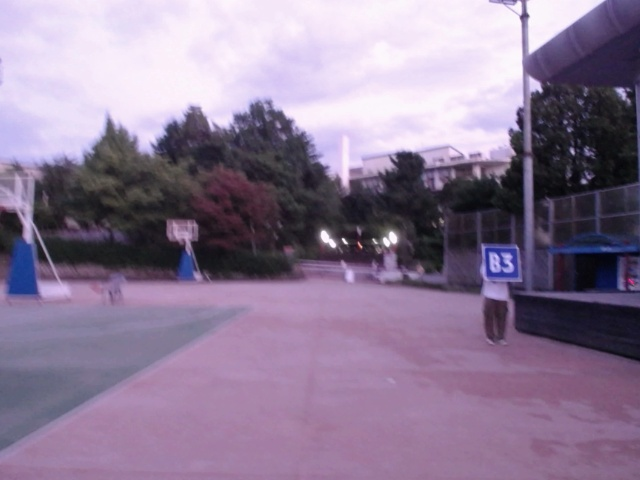delivery_b3: (481, 243, 524, 281)
